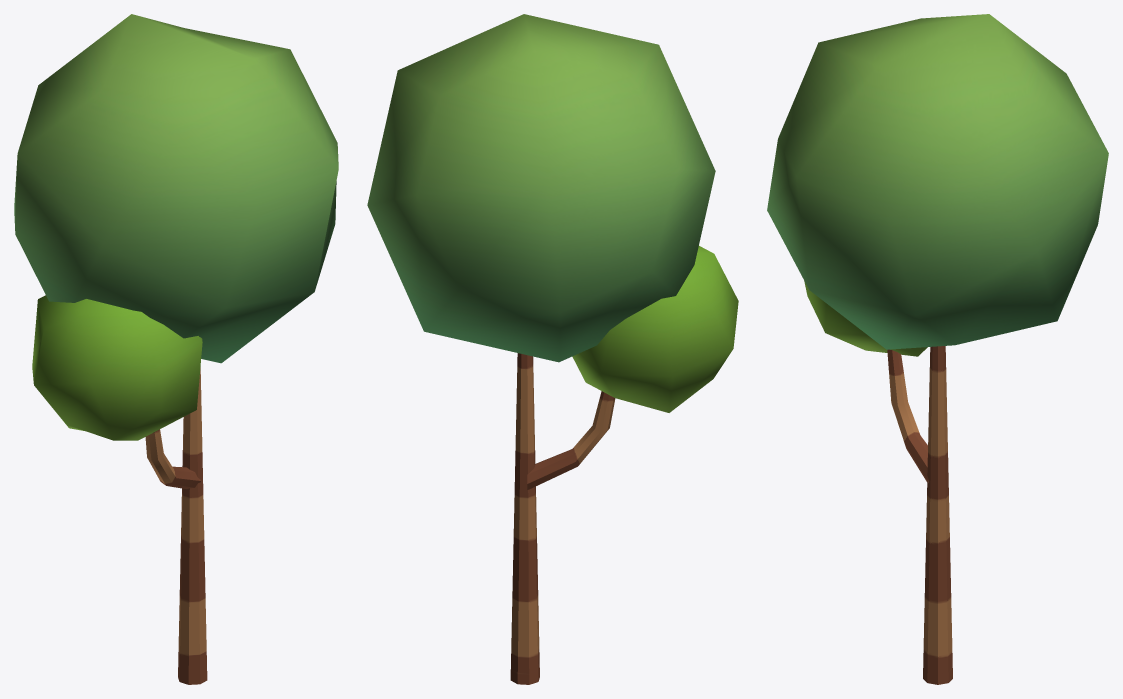
Rendered from Trees_RoundTree2.fbx.
3 views of the same model, side by side, from view 1: azimuth 30°, elevation 25°; view 2: azimuth 150°, elevation 25°; view 3: azimuth 270°, elevation 25° (orthographic).
Parts seen in each view (by area): view 1: RoundTree2; view 2: RoundTree2; view 3: RoundTree2.
Part boxes in pixels (x1=…): RoundTree2: x1=14, y1=14, x2=338, y2=684; RoundTree2: x1=367, y1=14, x2=738, y2=684; RoundTree2: x1=767, y1=14, x2=1108, y2=684.
Bounding box in the file's own units: 212 × 421 × 202.
1 material, 1 textured.
